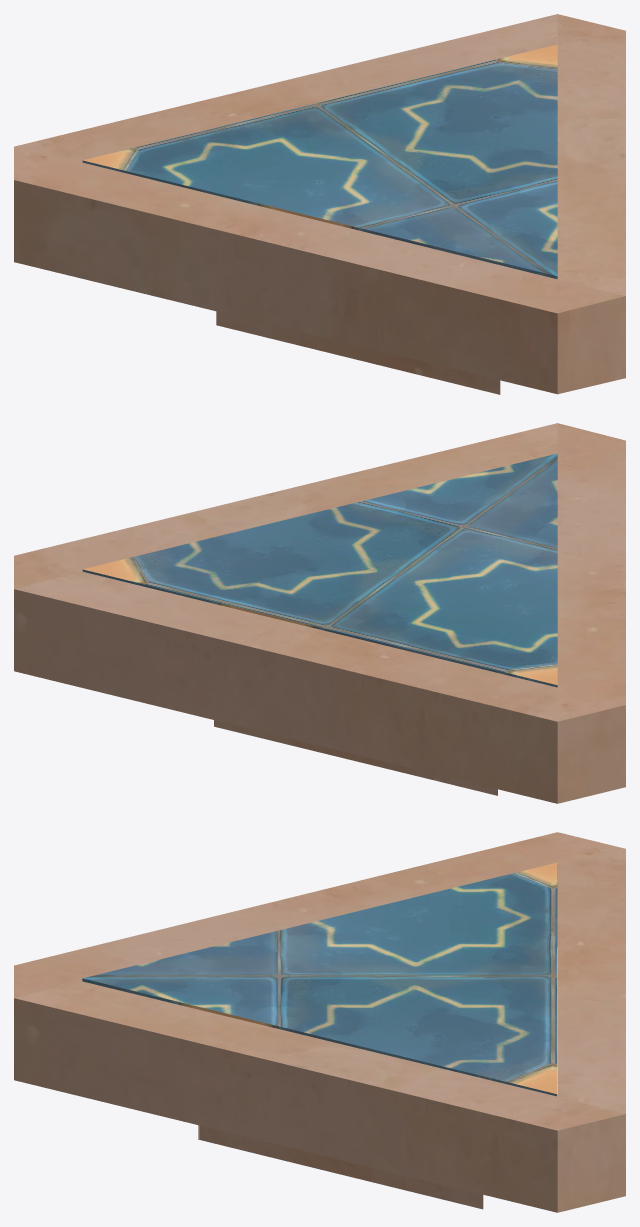
3 views of the same model, one above another, from view 1: azimuth 30°, elevation 25°; view 2: azimuth 150°, elevation 25°; view 3: azimuth 270°, elevation 25° (orthographic).
Parts seen in each view (by area): view 1: SM_BB_T4_Floor_Triangle_Med_01_LOD0; view 2: SM_BB_T4_Floor_Triangle_Med_01_LOD0; view 3: SM_BB_T4_Floor_Triangle_Med_01_LOD0.
Boxes of the visible parts, x1=… form: SM_BB_T4_Floor_Triangle_Med_01_LOD0: x1=14, y1=14, x2=625, y2=394; SM_BB_T4_Floor_Triangle_Med_01_LOD0: x1=14, y1=423, x2=625, y2=803; SM_BB_T4_Floor_Triangle_Med_01_LOD0: x1=14, y1=832, x2=625, y2=1212.
Bounding box in the file's own units: 1.93 × 0.4866 × 1.67.
2 materials, 2 textured.
